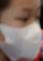with_mask: (2, 2, 43, 61)
